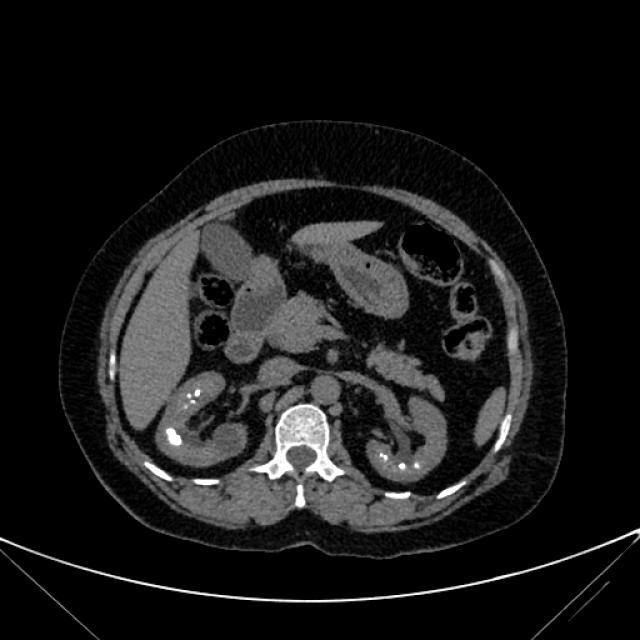kidney: (162, 381, 232, 463), (370, 410, 434, 479)
stone: (167, 430, 181, 445), (380, 453, 387, 460), (196, 389, 200, 396), (414, 463, 419, 468), (187, 393, 191, 398), (400, 464, 404, 468), (191, 401, 195, 403), (185, 406, 187, 408)
